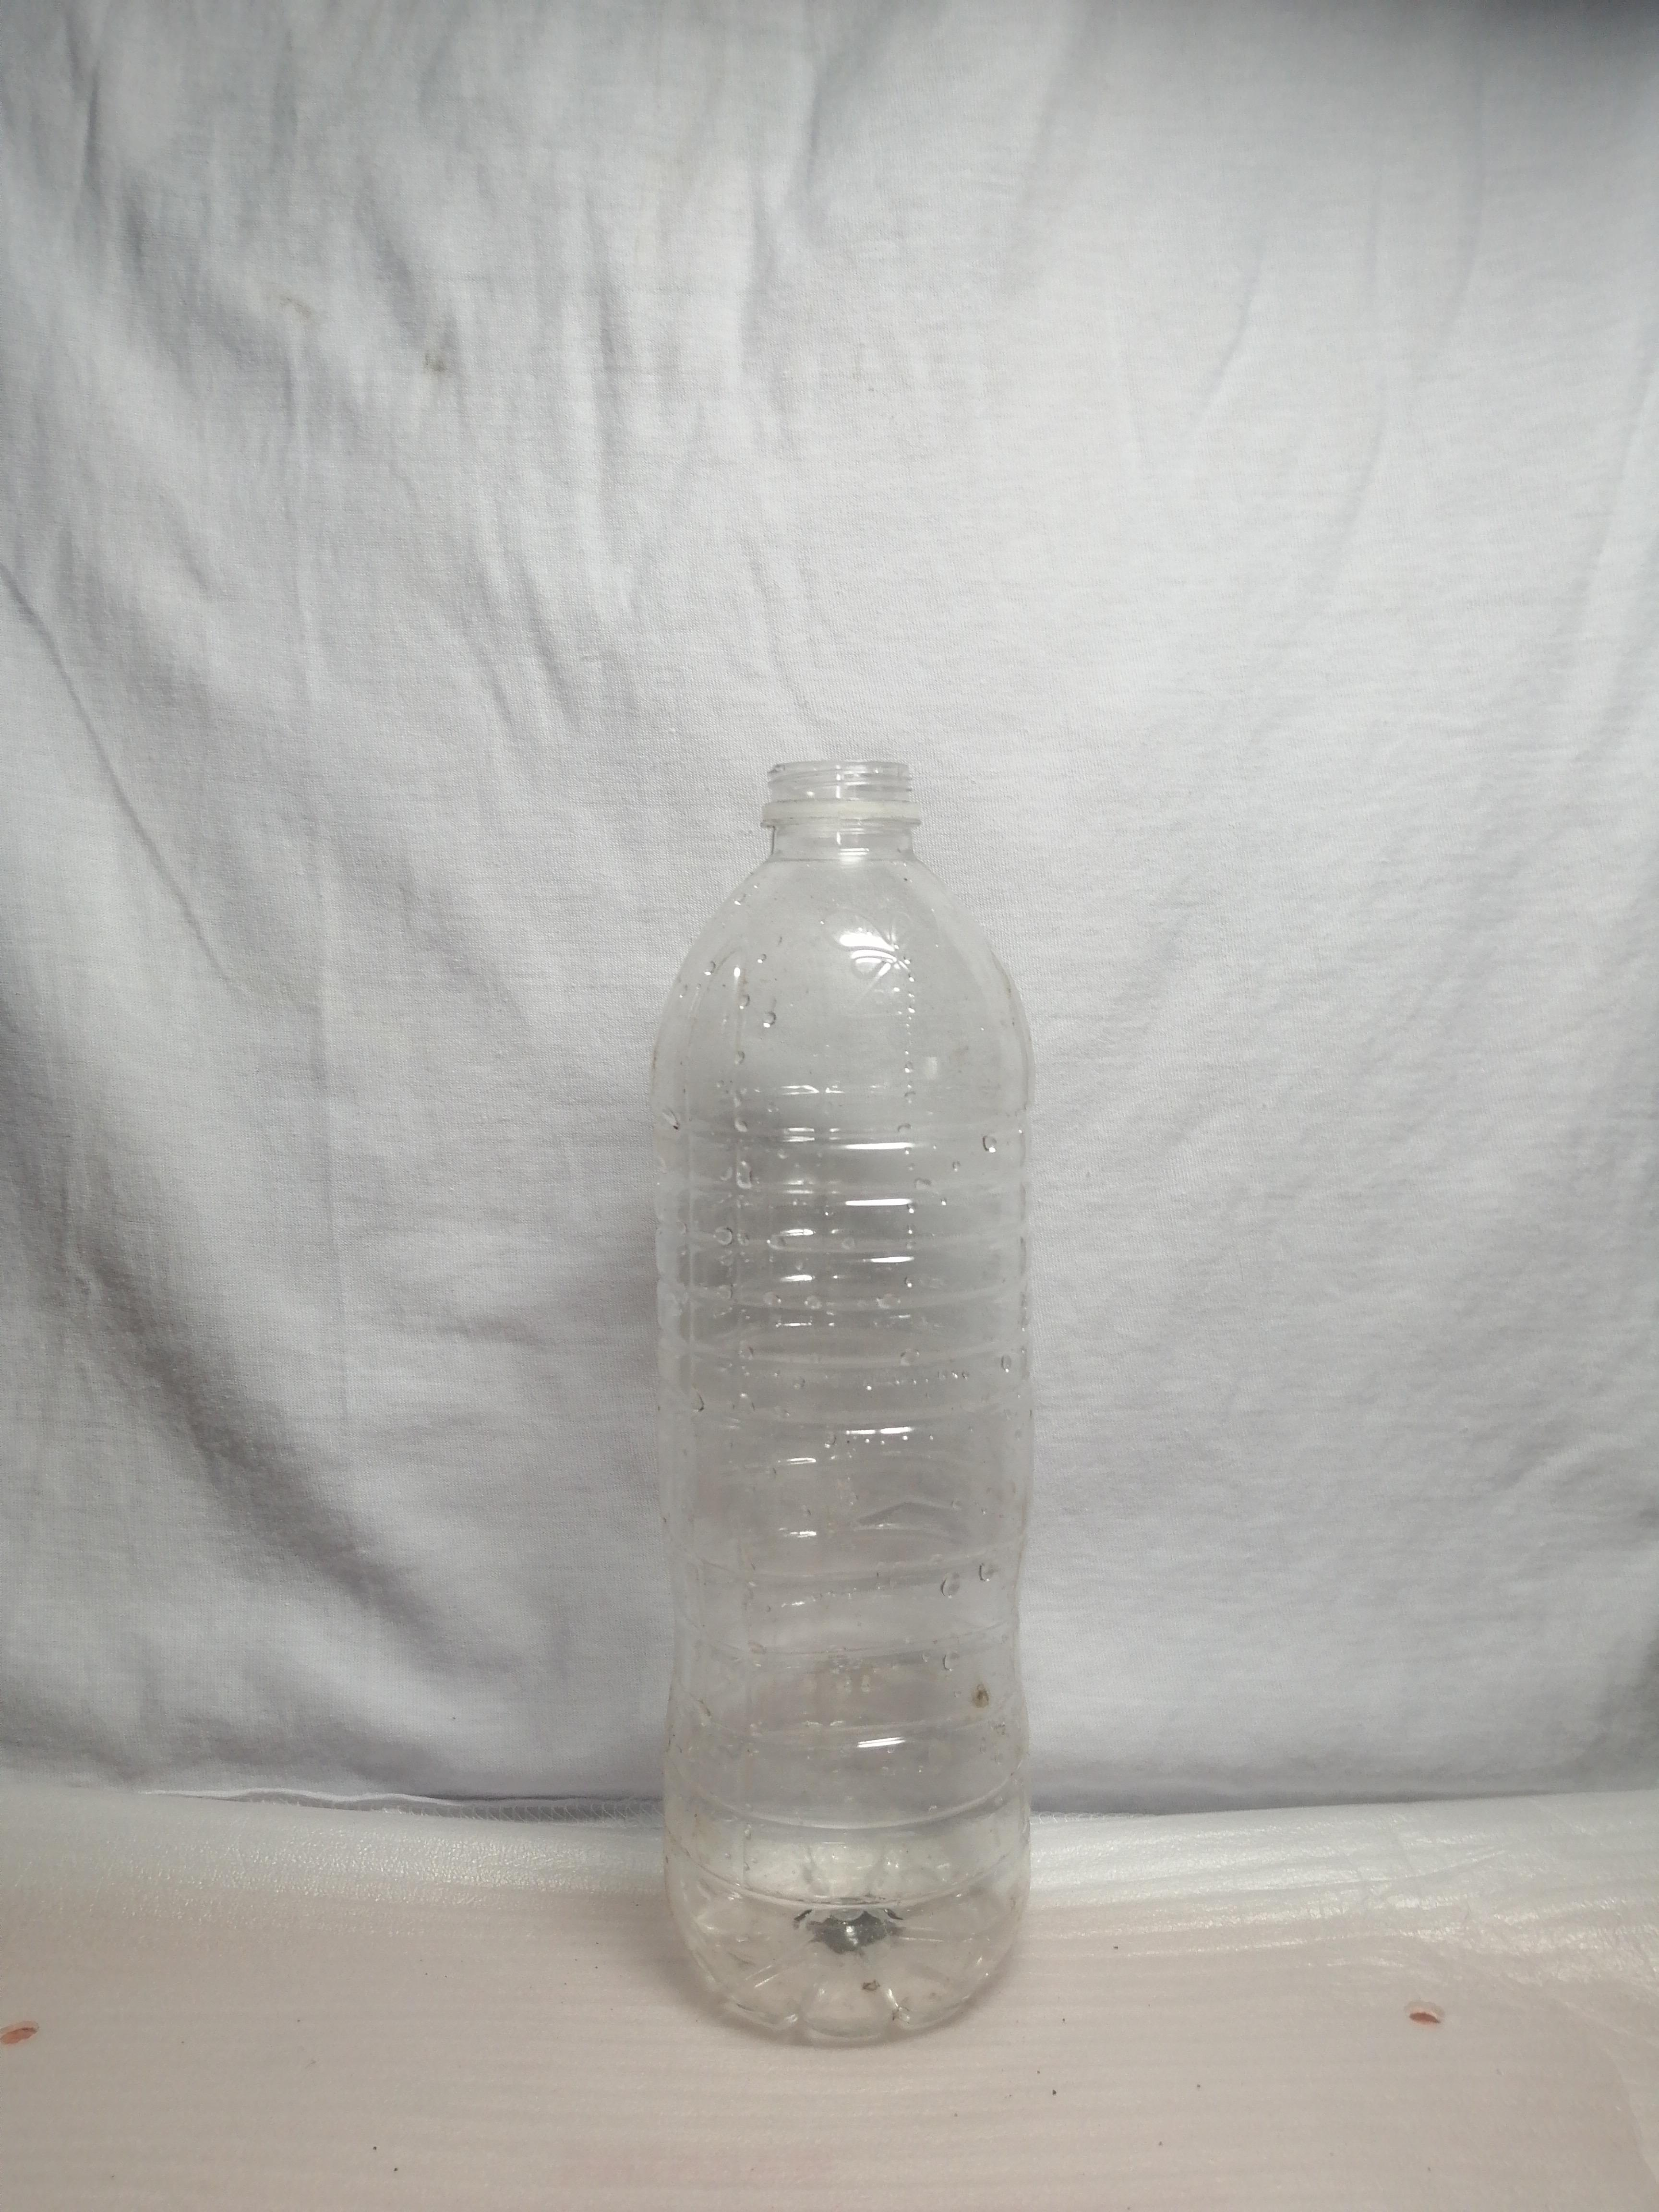plastic-bottle: (600, 720, 1109, 2112)
